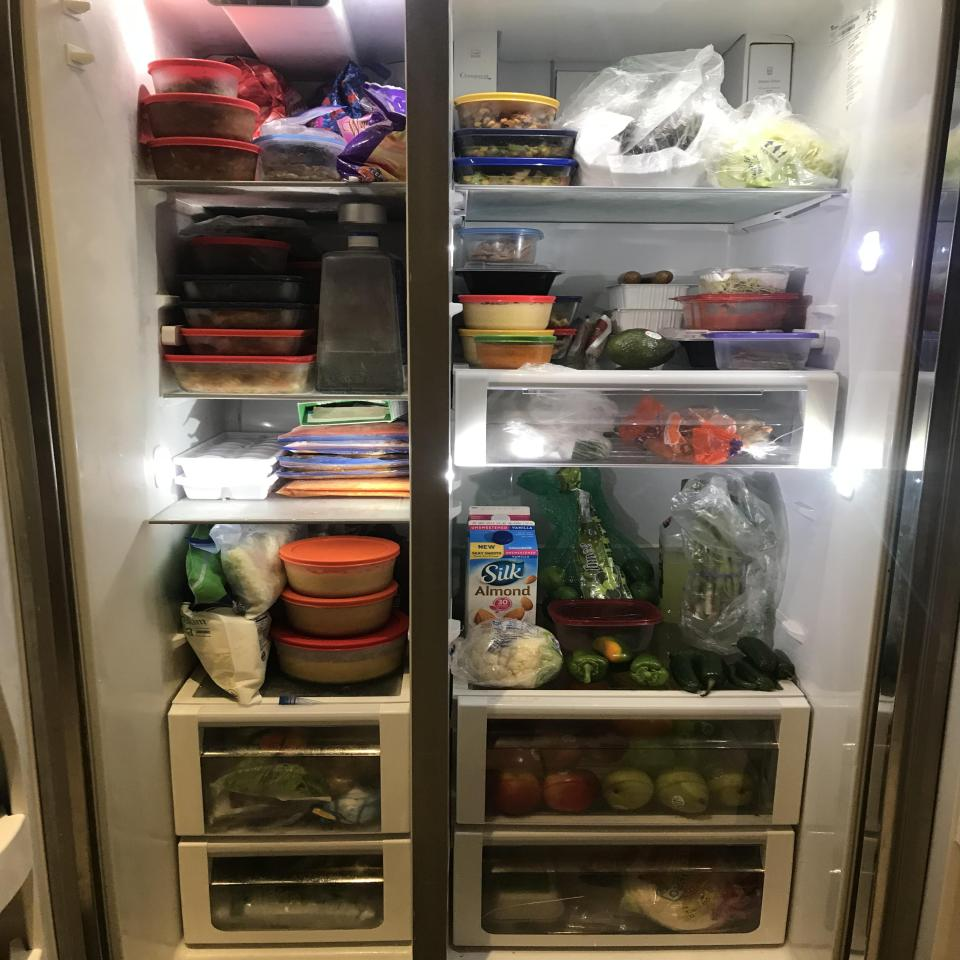Aguacate: (610, 328, 680, 369)
Lechuga/Endivia: (716, 121, 837, 190)
Manzana: (545, 769, 598, 813), (494, 771, 542, 816)
Zanahoria: (618, 399, 738, 465)
